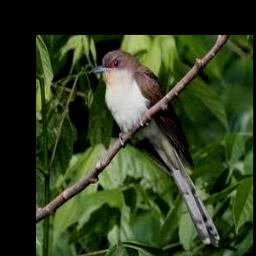Cuckoo: (91, 50, 220, 247)
